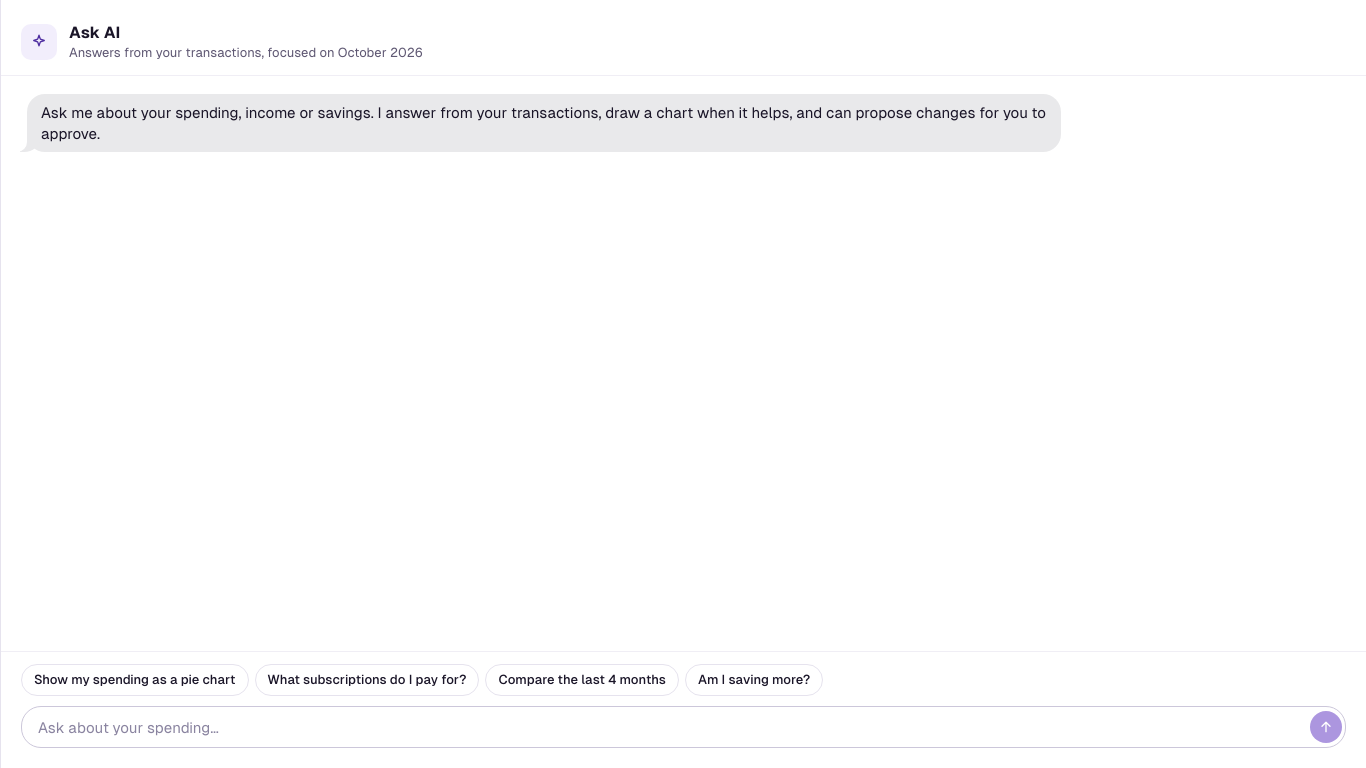
Scenario: AskAiPanel › streams an answer with a chart
The width and height of the screenshot is (1366, 768).
Click the button "Show my spending as a pie chart": x=135, y=680 [21, 664, 248, 696]
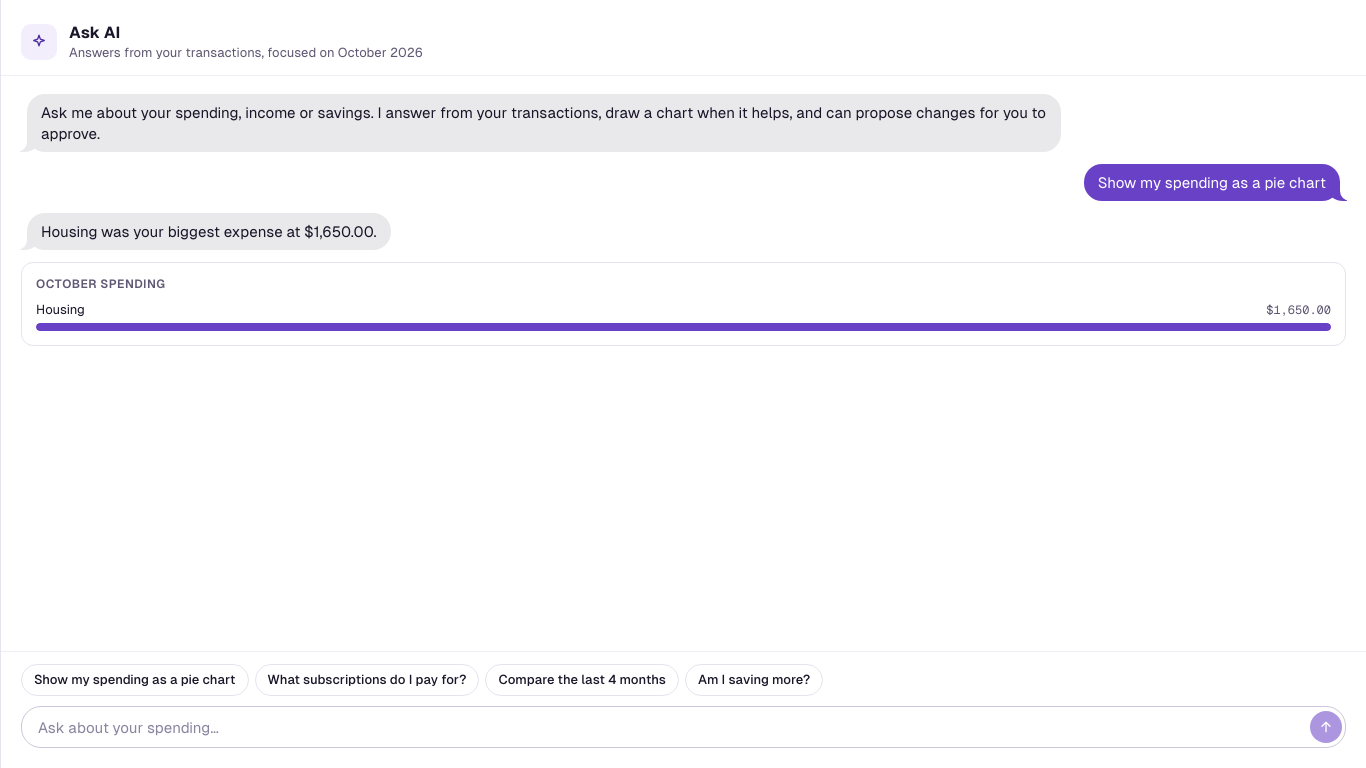
Result: the text "Housing was your biggest expense at $1,650.00." is shown at [27, 213, 390, 250]
Result: the picture named "October spending: Housing $1,650.00" is shown at [21, 262, 1346, 346]
